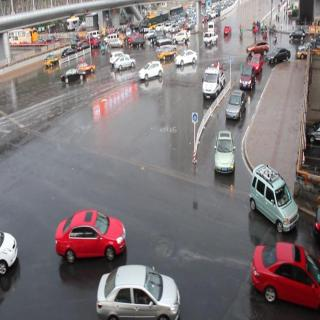Car: (249, 242, 320, 314), (95, 269, 181, 320), (53, 208, 125, 260), (252, 160, 303, 233), (214, 124, 238, 184), (0, 223, 20, 281), (204, 59, 227, 99), (228, 86, 246, 120), (239, 58, 257, 92), (175, 47, 198, 70), (267, 44, 287, 69), (61, 67, 88, 85), (139, 61, 164, 80), (113, 56, 137, 72), (42, 53, 59, 68), (204, 30, 218, 48), (223, 20, 232, 38), (159, 49, 176, 58)
